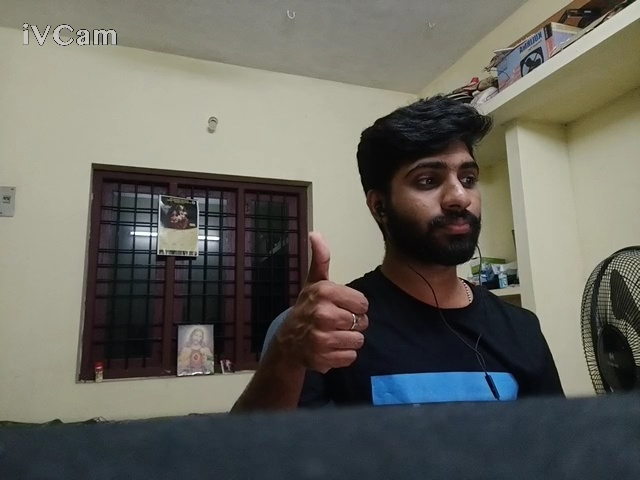Yes: (234, 214, 422, 402)
